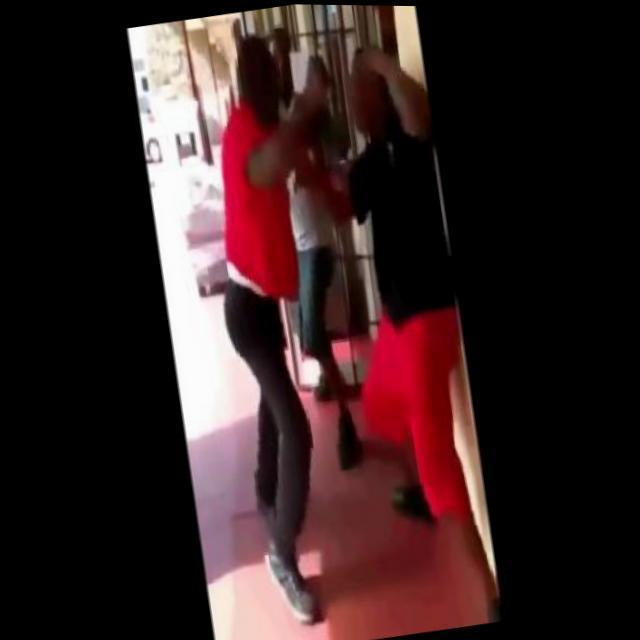fight: (176, 8, 508, 638)
